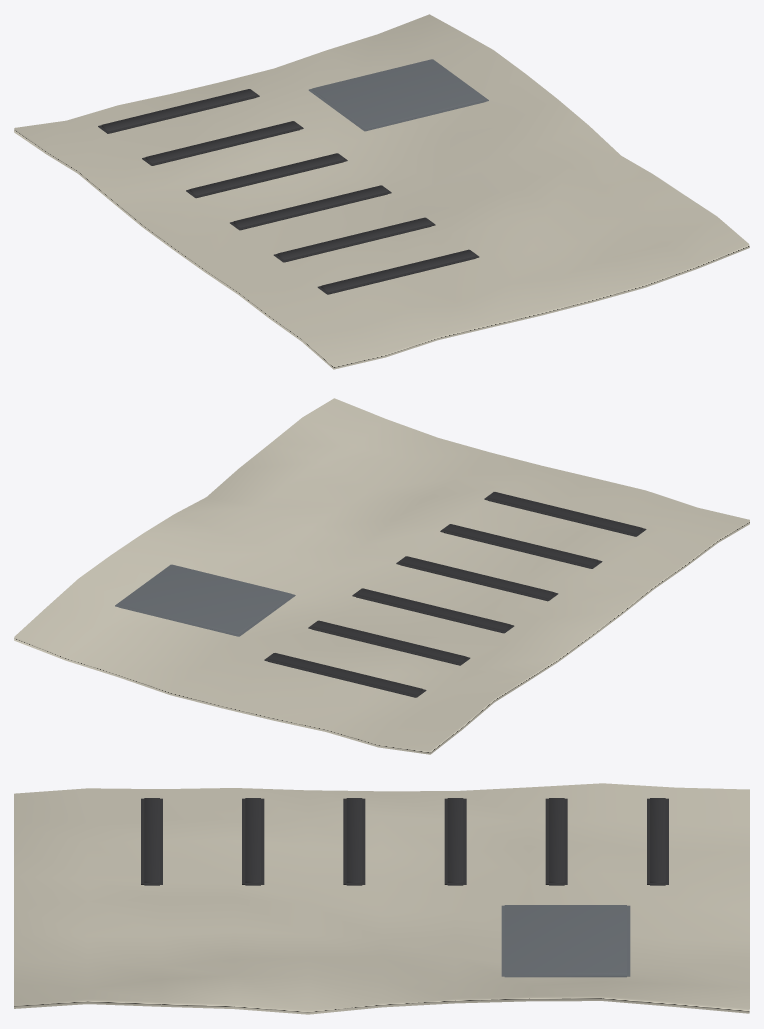
Rendered from smiec_gazeta.glb.
3 renders of one model, top to bottom at view 1: azimuth 30°, elevation 25°; view 2: azimuth 150°, elevation 25°; view 3: azimuth 270°, elevation 25°, orthographic. The views are drawn at different scales.
Parts seen in each view (by area): view 1: Gazeta; view 2: Gazeta; view 3: Gazeta.
Boxes of the visible parts, x1,y1,x2,y2 form: Gazeta: [14, 14, 749, 369]; Gazeta: [14, 398, 749, 754]; Gazeta: [14, 783, 749, 1014].
Bounding box in the file's own units: 0.3012 × 0.0235 × 0.4001.
